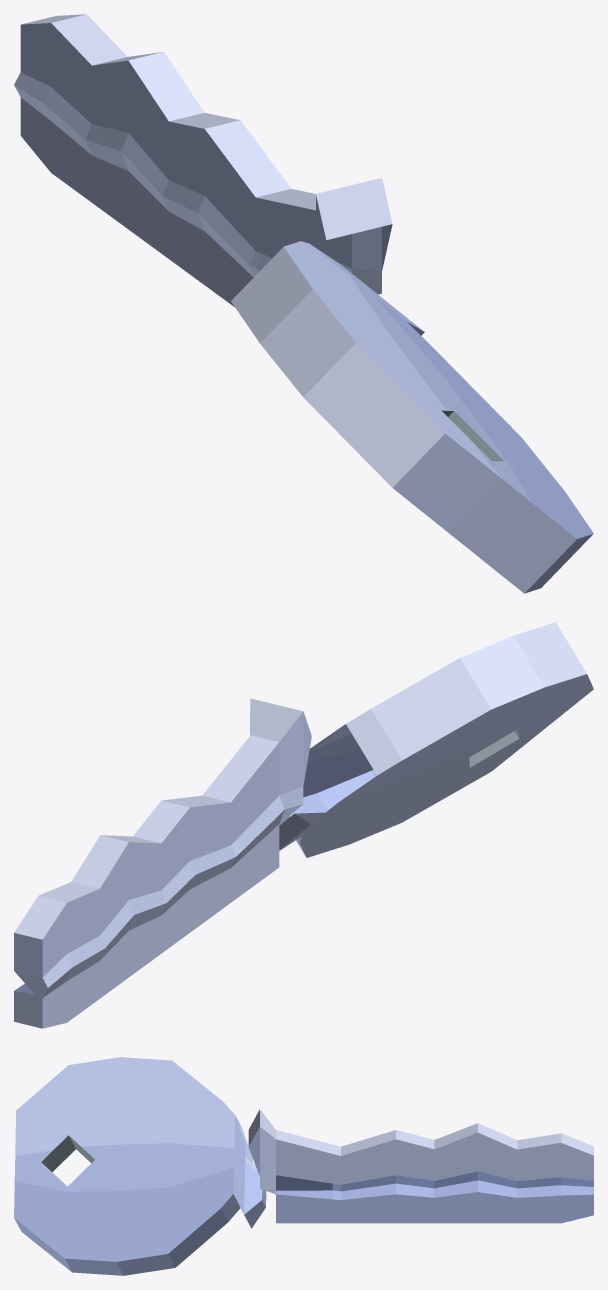
The model's file is BrokenKey.fbx.
3 views of the same model, one above another, from view 1: azimuth 30°, elevation 25°; view 2: azimuth 150°, elevation 25°; view 3: azimuth 270°, elevation 25° (orthographic). The views are drawn at different scales.
Visible parts, largest first — view 1: pCube11, pCube12; view 2: pCube11, pCube12; view 3: pCube12, pCube11.
Part boxes in pixels (x1,y1,x2,y2): pCube11: (14, 14, 392, 306); pCube12: (231, 241, 593, 593); pCube11: (14, 698, 311, 1028); pCube12: (279, 622, 593, 857); pCube12: (14, 1057, 266, 1275); pCube11: (248, 1109, 593, 1223).
Size of the model in its own units: 0.9336 by 0.9211 by 2.87.
